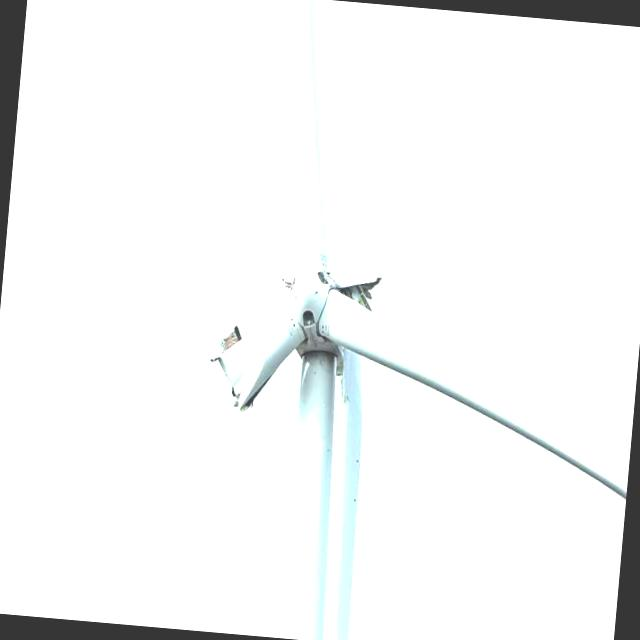crack: (197, 250, 401, 434)
